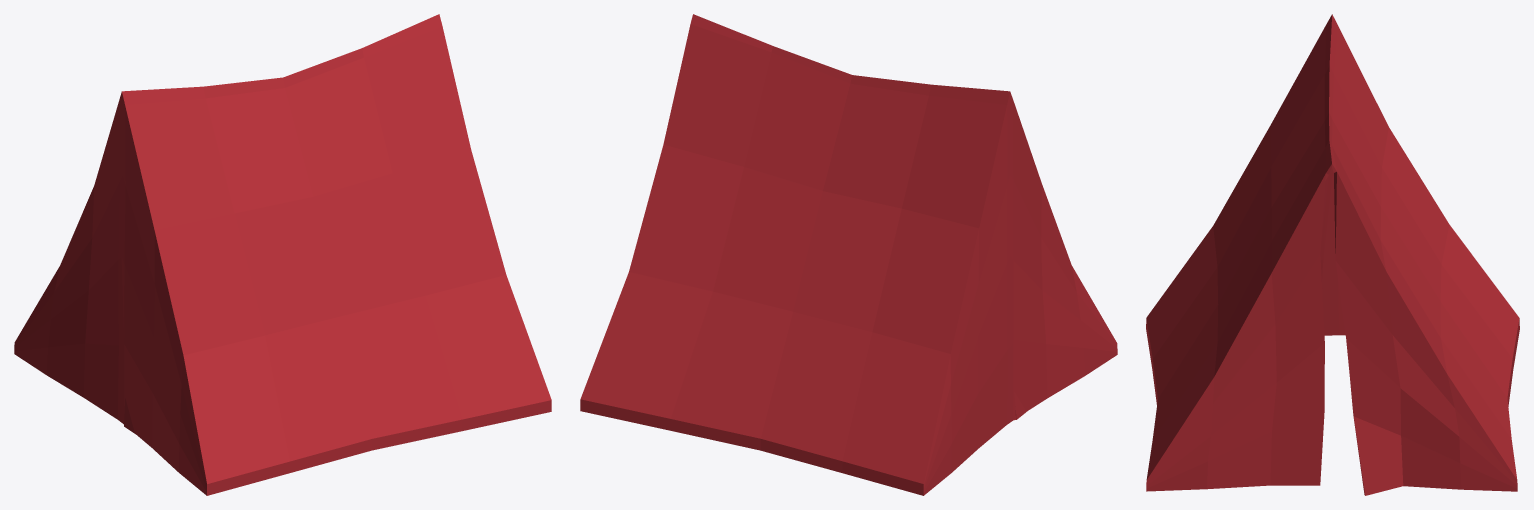
Rendered from tent.fbx.
The picture shows the model from 3 angles, left to right: view 1: azimuth 30°, elevation 25°; view 2: azimuth 150°, elevation 25°; view 3: azimuth 270°, elevation 25°; orthographic projection. The views are drawn at different scales.
Parts seen in each view (by area): view 1: Cube.053; view 2: Cube.053; view 3: Cube.053.
Boxes of the visible parts, box(x1,y1,x2,y2) form: Cube.053: box(14, 14, 551, 495); Cube.053: box(580, 14, 1117, 495); Cube.053: box(1146, 14, 1519, 495).
Size of the model in its own units: 313 by 286 by 300.
